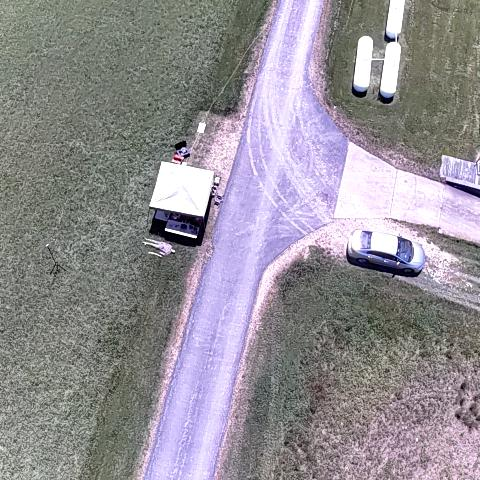person: (140, 236, 176, 256)
